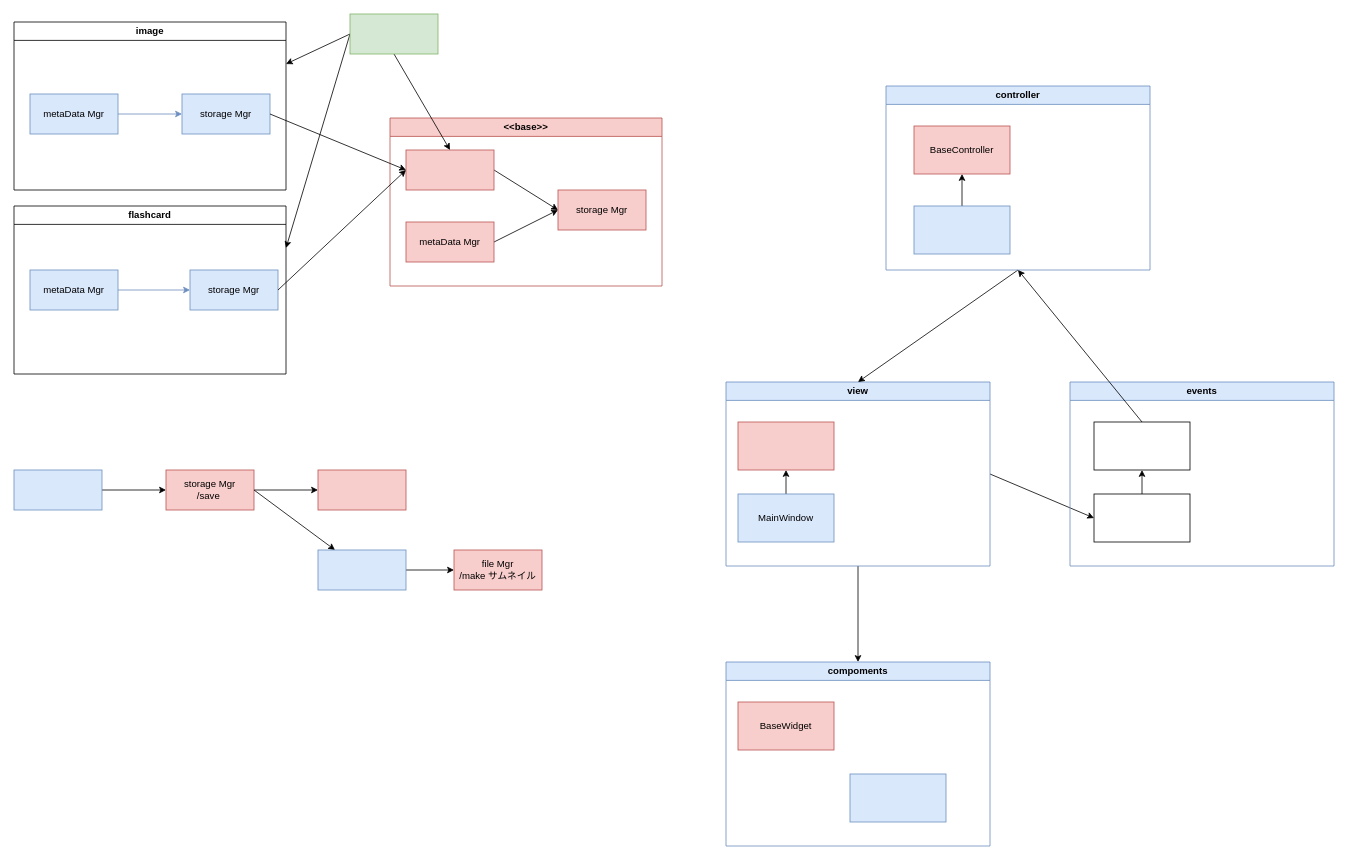
Image size: 1348x860. Some labels were removed from this diagram. The shapes that lost their labels are listed below. From the top down, each one's centre as x and y in pixels, then its label:
At (x=393, y=33): "StorageMGR".
At (x=449, y=169): "file Mgr".
At (x=961, y=229): "MainController".
At (x=785, y=445): "BaseMainWindow".
At (x=1141, y=445): "EventDispatcher".
At (x=57, y=489): "storage Mgr /save file".
At (x=361, y=489): "file Mgr /save".
At (x=1141, y=517): "Event".
At (x=361, y=569): "meta data Mgr /get meta data".
